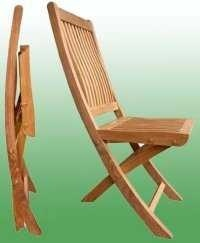obstacle: (47, 2, 191, 237)
